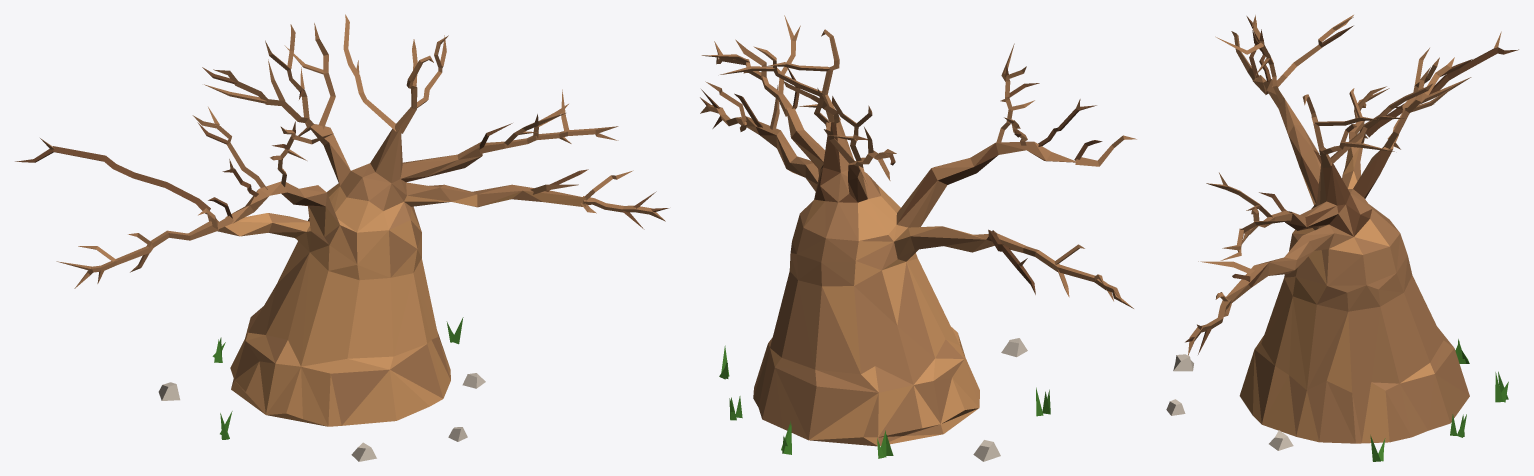
File: baobab_bare.glb
3 renders of one model, left to right at view 1: azimuth 30°, elevation 25°; view 2: azimuth 150°, elevation 25°; view 3: azimuth 270°, elevation 25°, orthographic. The views are drawn at different scales.
Visible parts, largest first — view 1: baobab_bare; view 2: baobab_bare; view 3: baobab_bare.
Boxes of the visible parts, x1,y1,x2,y2 form: baobab_bare: (15,14,668,461); baobab_bare: (700,15,1136,461); baobab_bare: (1166,15,1518,461).
Bounding box in the file's own units: 9.48 × 5.82 × 5.51.
